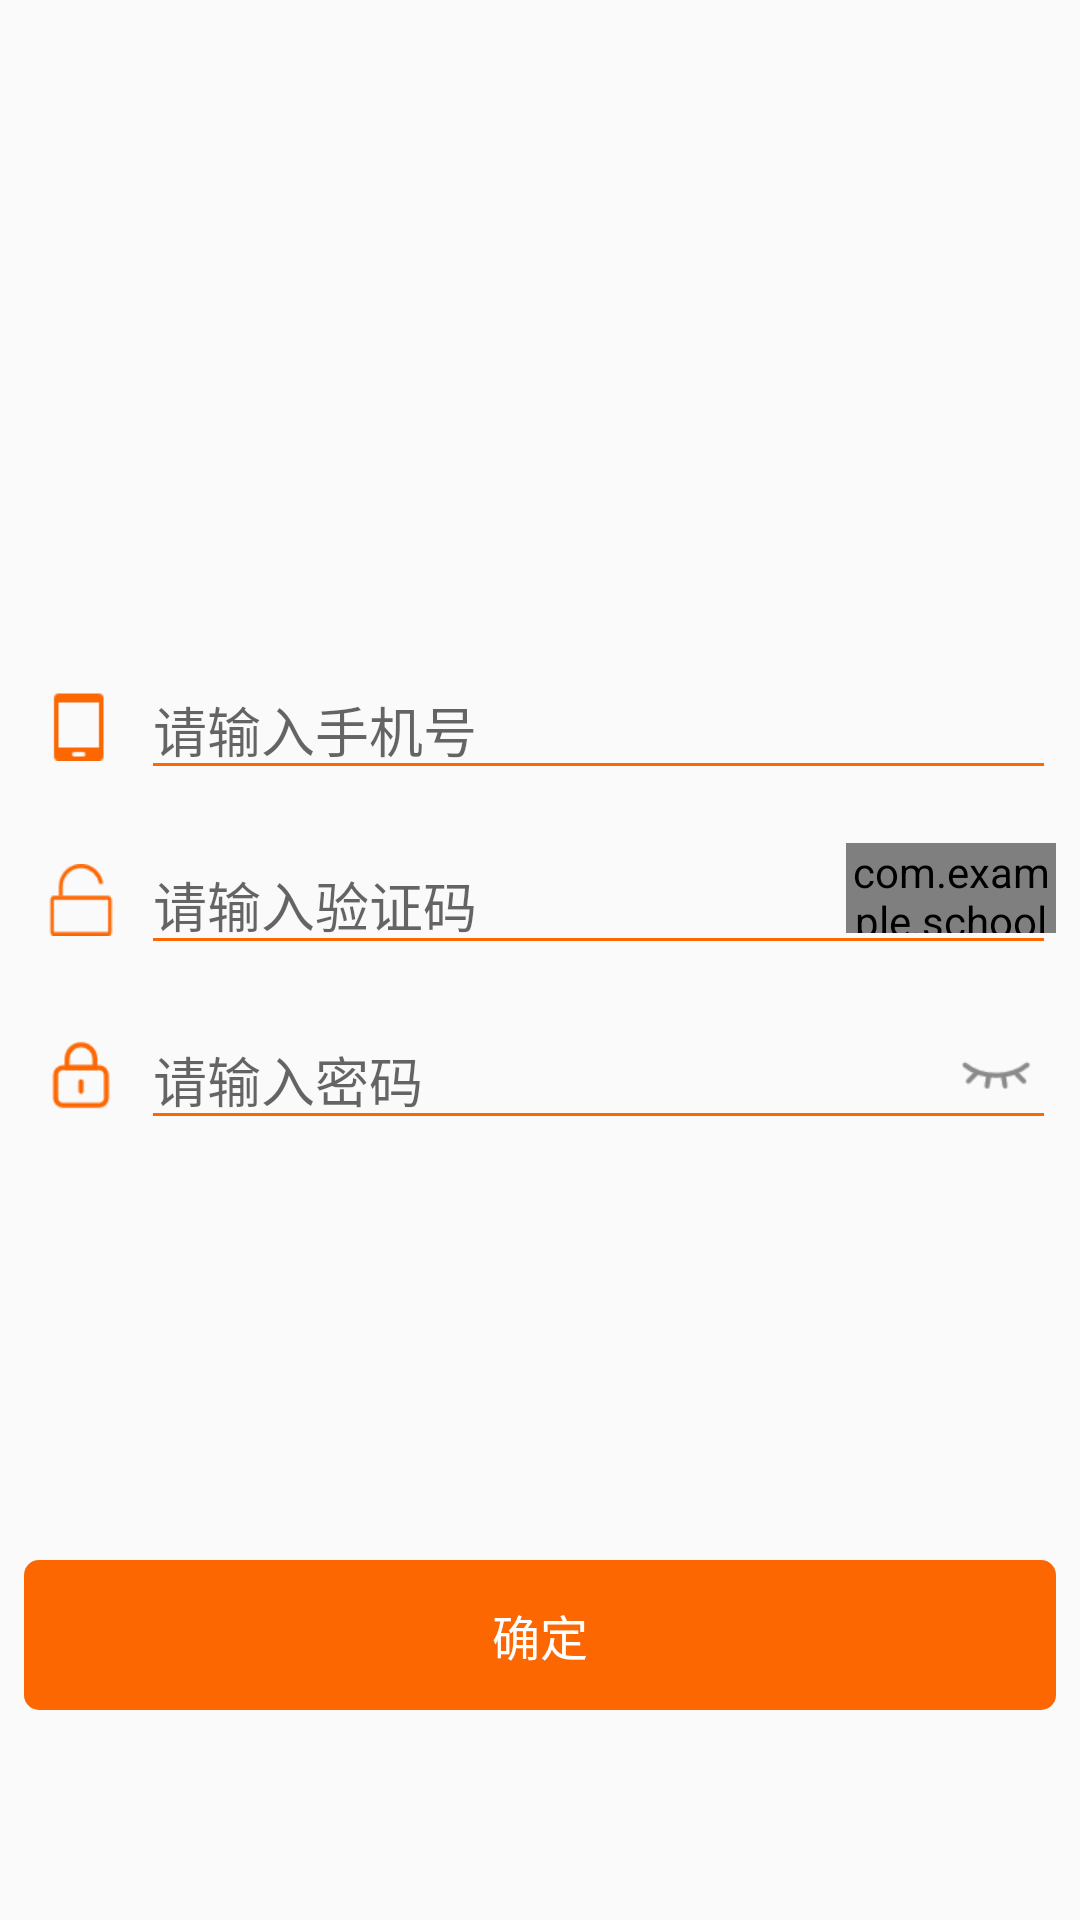

Screen size 1080x1920. Icon name, then its center in pixels as (x,y):
password: (81,1075)
password unshow: (996,1075)
phone: (78,727)
